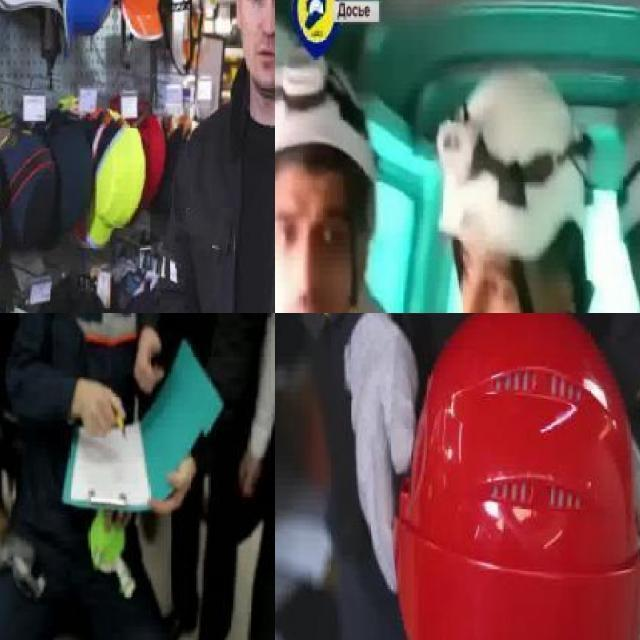apron: (342, 313, 422, 594)
